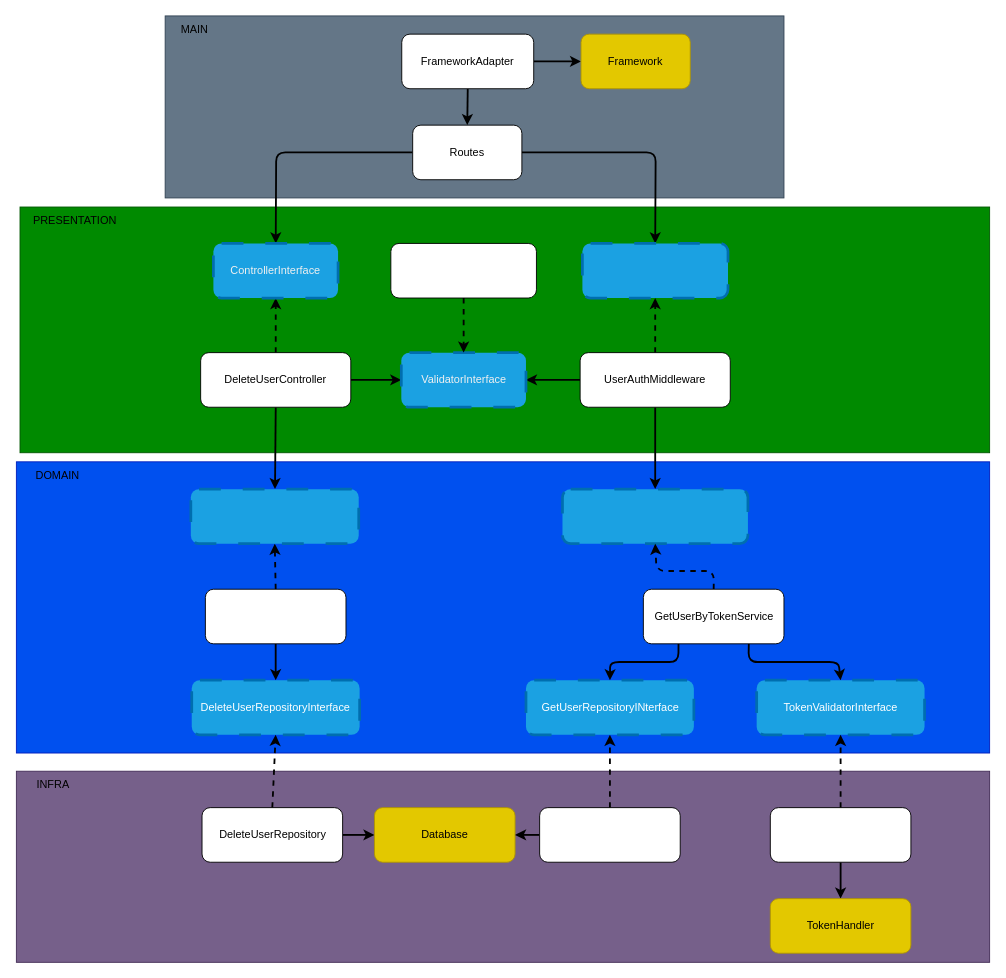
This 1006x978 diagram has some shape labels left out. The shapes that lost their labels are listed below. From the top down, each one's centre as x and y in pixels, then its label:
At (x=463, y=270): "ValidatorComposite".
At (x=655, y=270): "MiddlewareInterface".
At (x=274, y=516): "DeleteUserServiceInterface".
At (x=655, y=516): "GetUserByTokenServiceInterface".
At (x=275, y=616): "DeleteUserService".
At (x=609, y=834): "GetUserRepository".
At (x=840, y=834): "TokenHandlerAdapter".
